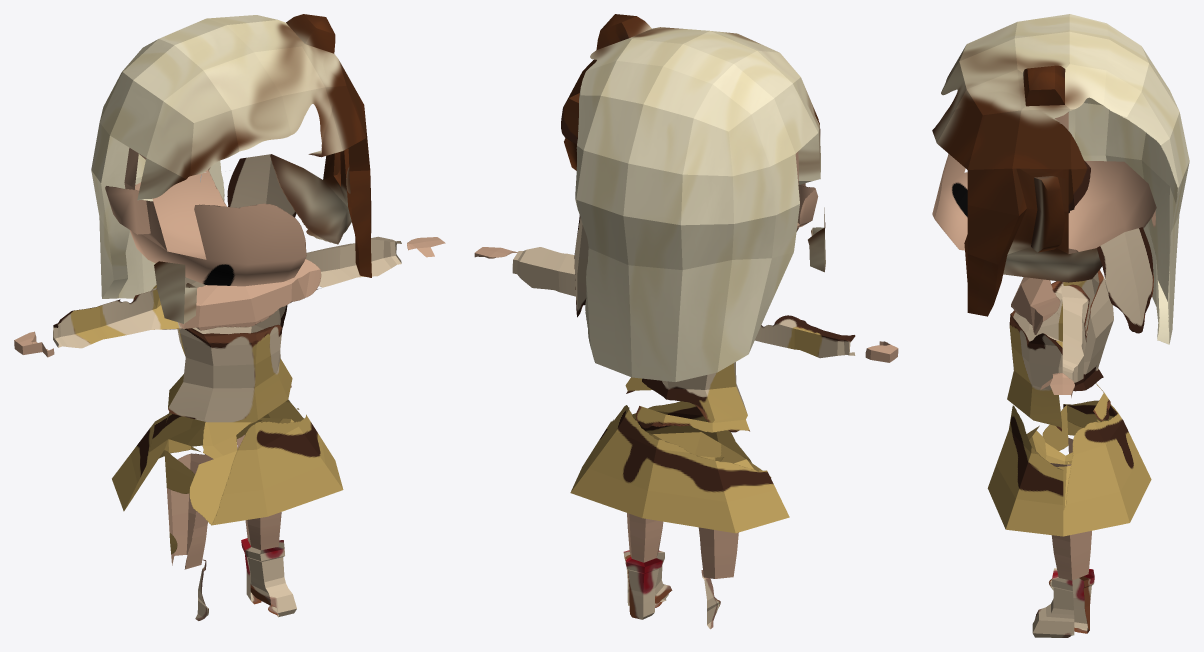
The model's file is Tathi_texturizada.fbx.
3 renders of one model, left to right at view 1: azimuth 30°, elevation 25°; view 2: azimuth 150°, elevation 25°; view 3: azimuth 270°, elevation 25°, orthographic.
Visible parts, largest first — view 1: pCylinder4; view 2: pCylinder4; view 3: pCylinder4.
Boxes of the visible parts, x1,y1,x2,y2 form: pCylinder4: (14,14,445,620); pCylinder4: (474,14,898,629); pCylinder4: (932,14,1189,637).
Size of the model in its own units: 64.33 by 85.35 by 34.9.
